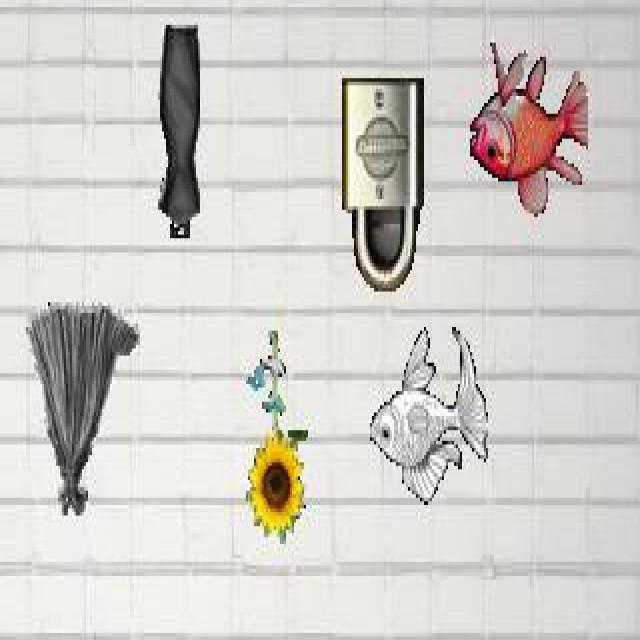Other Objects: (25, 302, 141, 520), (340, 76, 425, 294), (156, 27, 202, 242)
